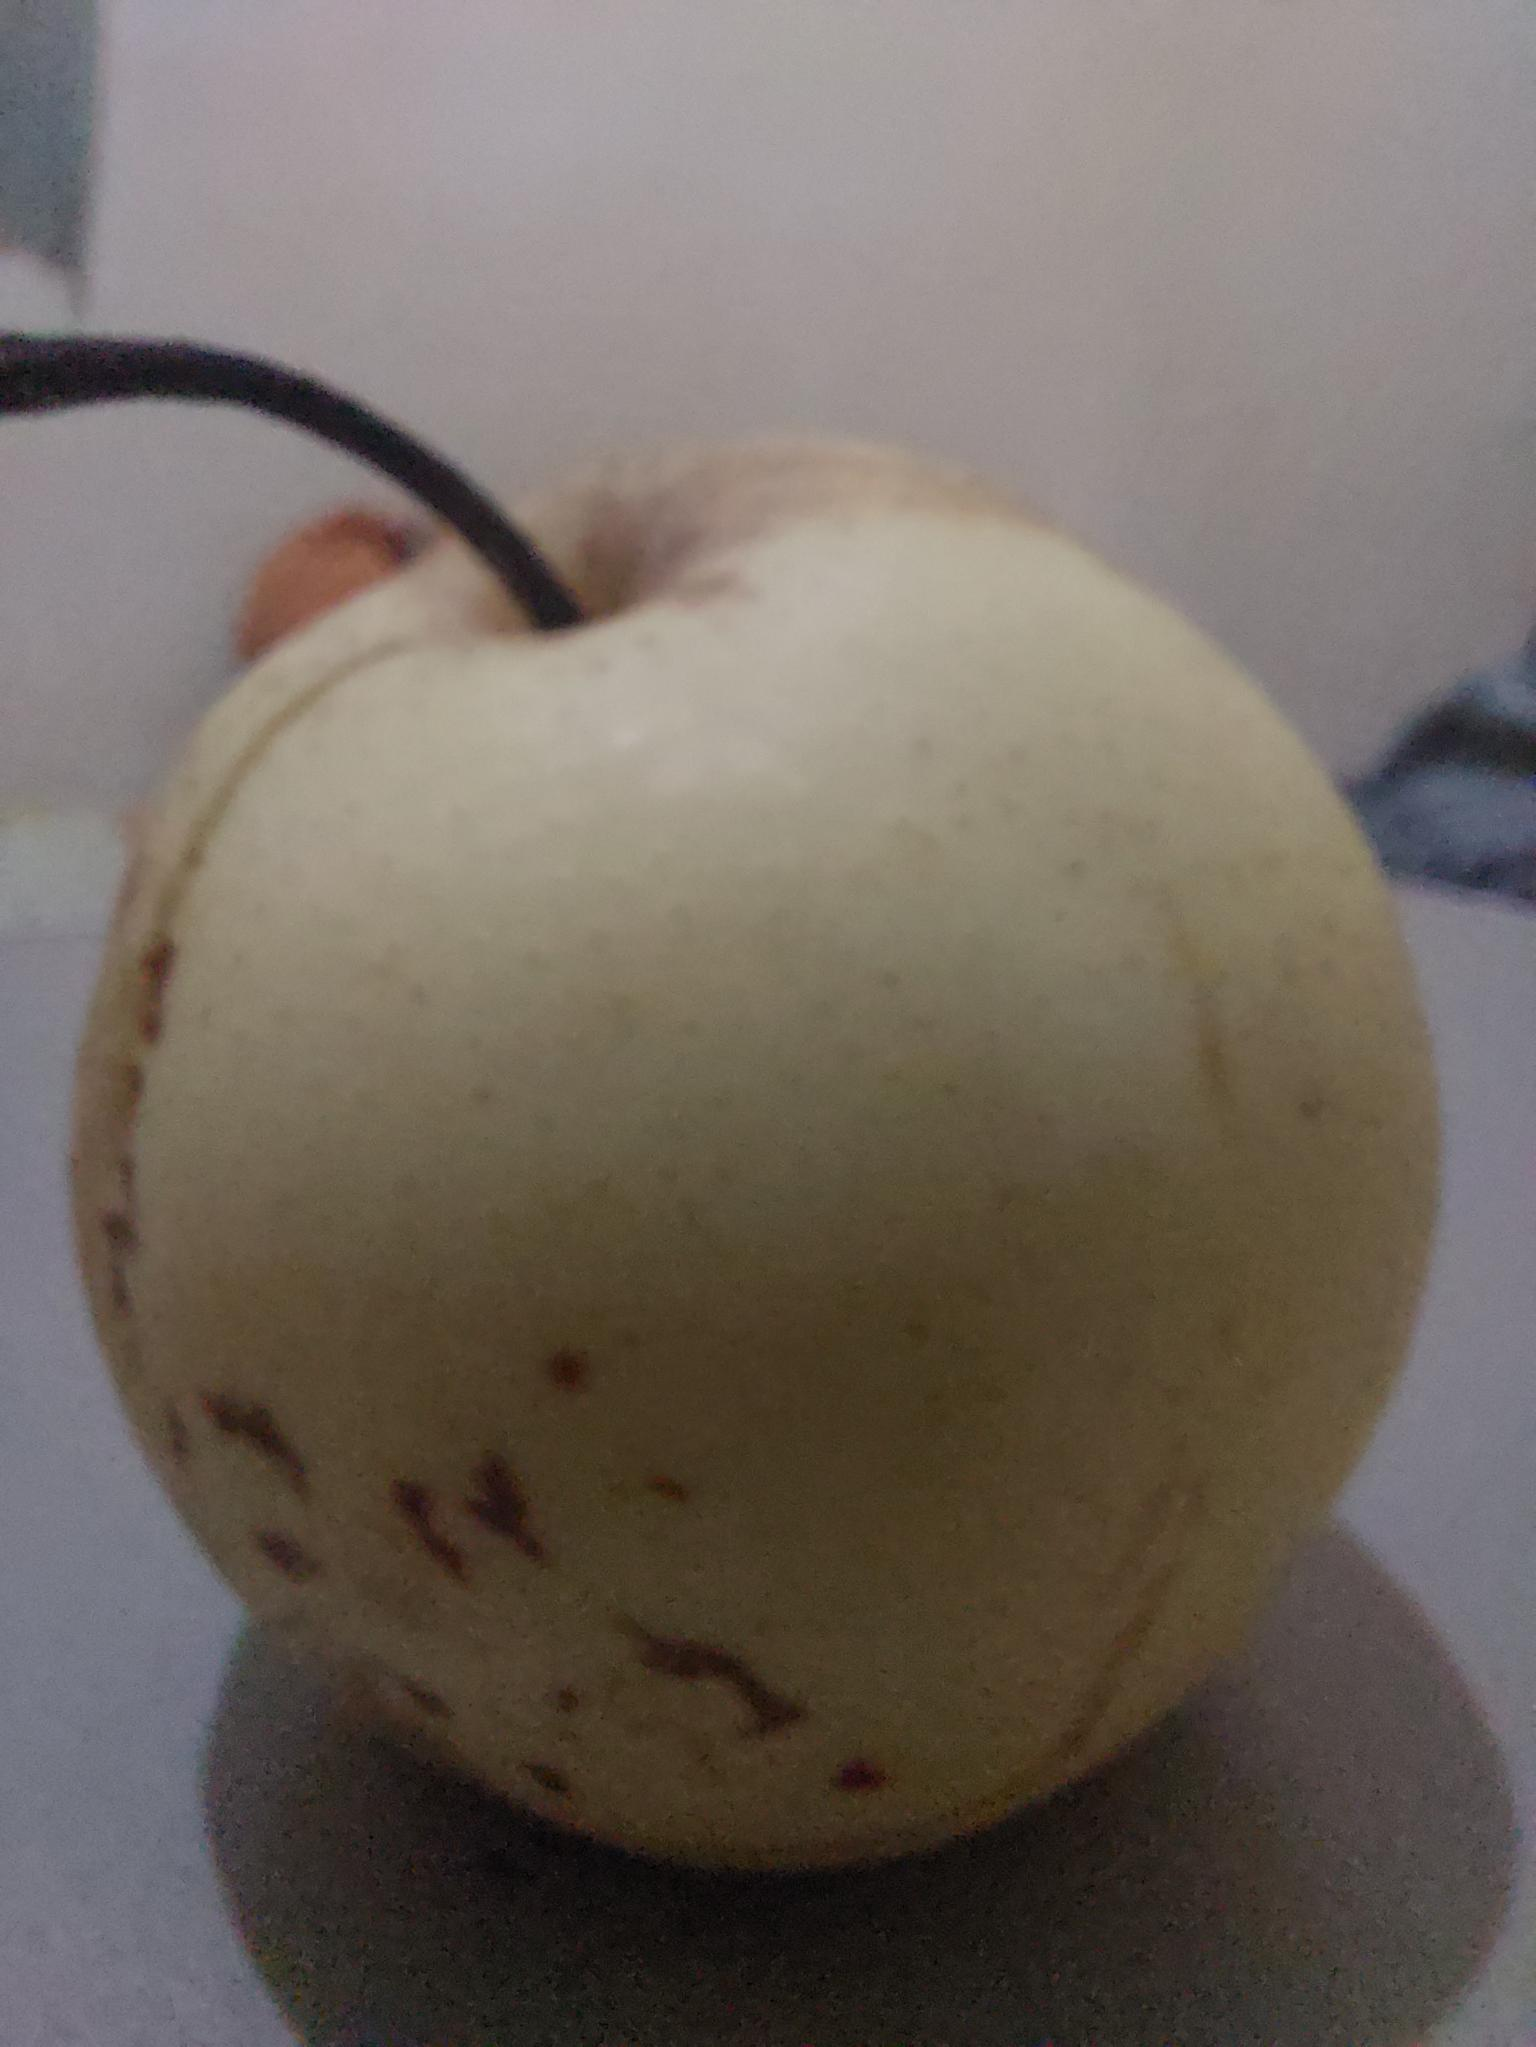Bad Pear: (80, 482, 1456, 1856)
